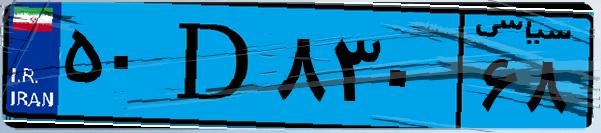0: (385, 28, 445, 110), (110, 28, 158, 98)
3: (330, 28, 385, 110)
5: (57, 26, 110, 100)
6: (475, 38, 525, 113)
8: (270, 28, 330, 110), (525, 38, 570, 115)
D: (158, 12, 270, 120)
